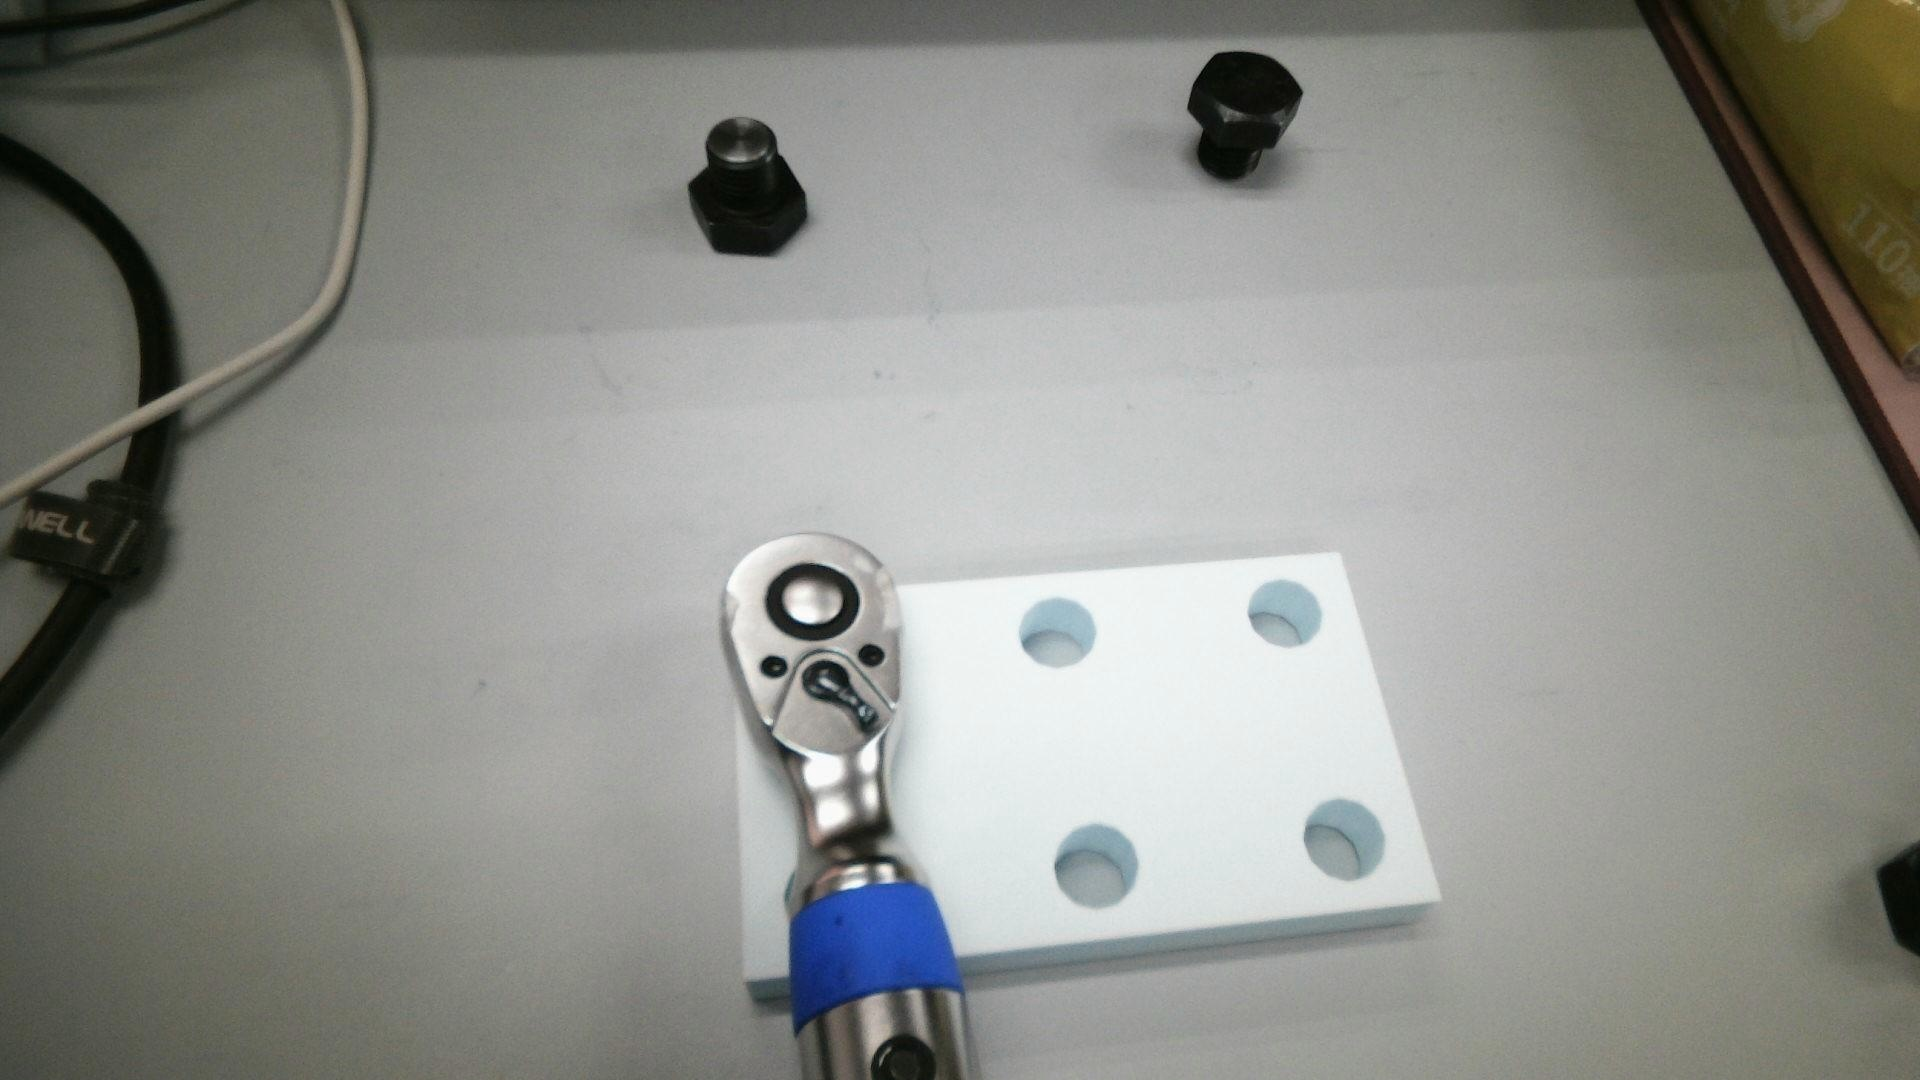hole: (1055, 825, 1139, 909), (1304, 799, 1385, 884), (1018, 596, 1098, 669), (1246, 580, 1323, 649)
obj: (733, 553, 1447, 1006)
wrench: (764, 563, 861, 641)
